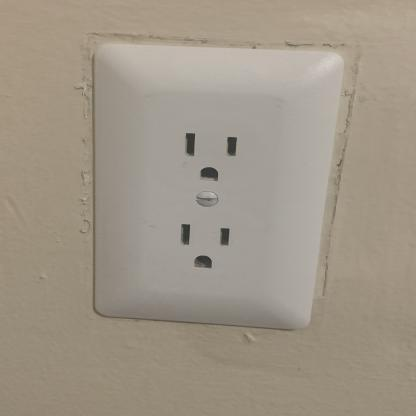OUTLET: (88, 40, 338, 333)
